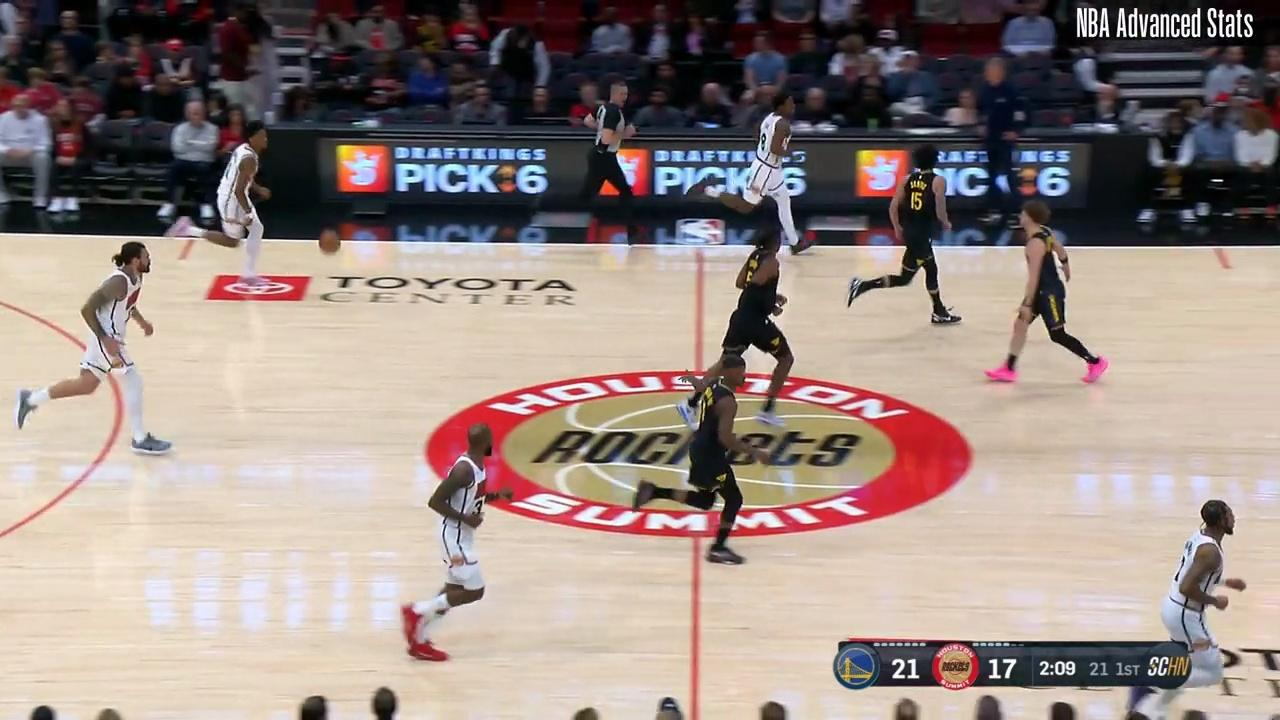basketball: (316, 226, 346, 257)
